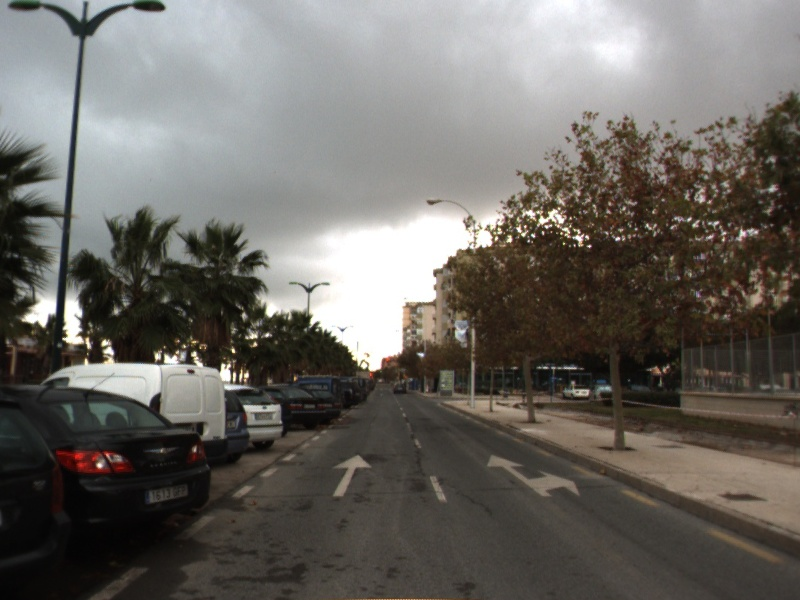STRAIGHT: (330, 452, 373, 498)
STRAIGHT_RIGHT: (486, 452, 581, 498)
